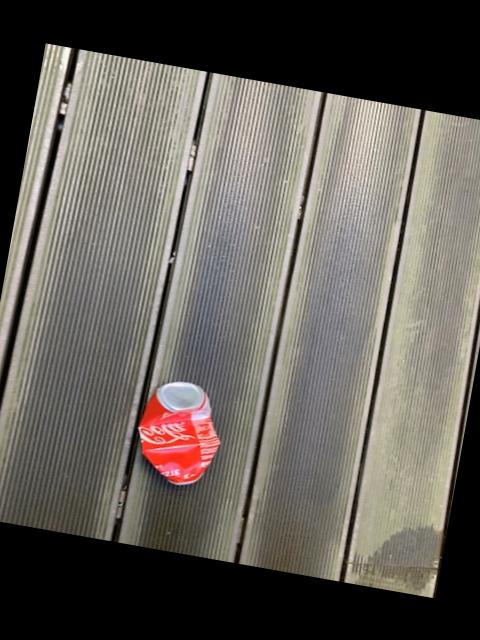metal: (138, 381, 220, 484)
